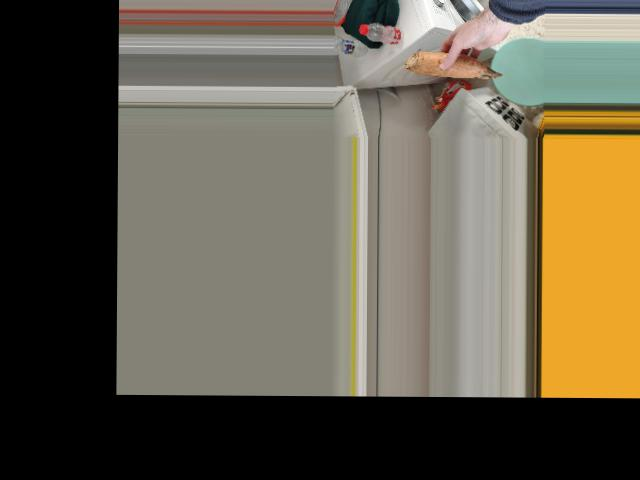sweet_potato: (400, 48, 496, 75)
